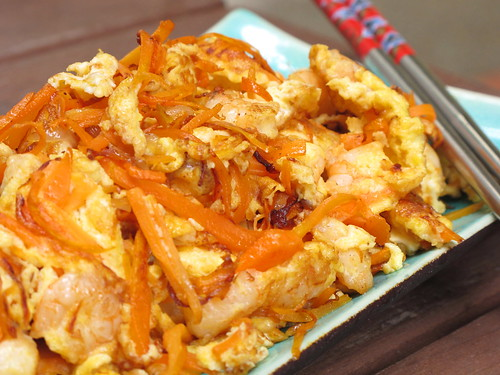carrot_eggs: (33, 40, 447, 357), (113, 76, 332, 293), (256, 40, 439, 275), (36, 155, 244, 351)
